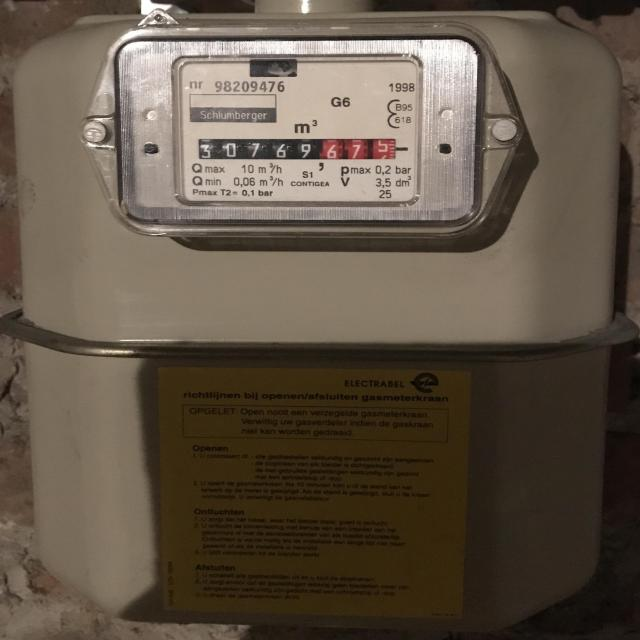gaz_meter: (180, 66, 416, 202)
indication: (198, 138, 397, 159)
